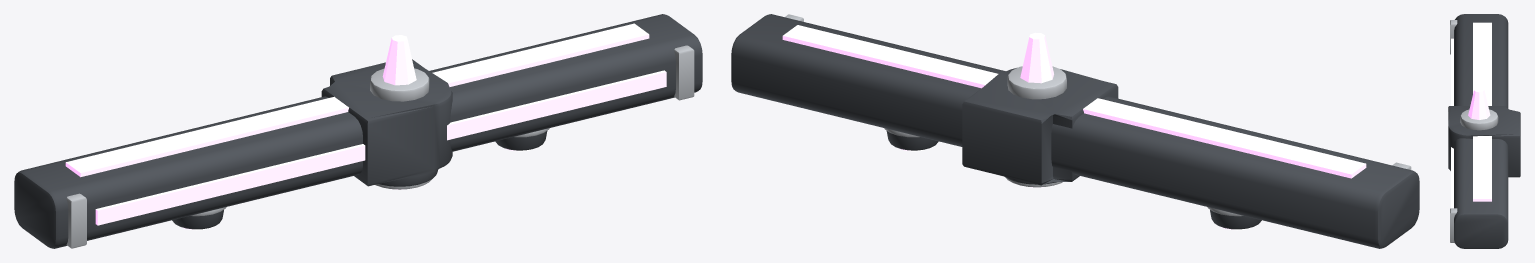
Rendered from SM_SynthRing.fbx.
3 renders of one model, left to right at view 1: azimuth 30°, elevation 25°; view 2: azimuth 150°, elevation 25°; view 3: azimuth 270°, elevation 25°, orthographic. The views are drawn at different scales.
Parts seen in each view (by area): view 1: SynthRing_Straight, SynthRing_Corner; view 2: SynthRing_Straight, SynthRing_Corner; view 3: SynthRing_Straight, SynthRing_Corner.
Boxes of the visible parts, x1,y1,x2,y2 form: SynthRing_Straight: (14,14,702,248); SynthRing_Corner: (321,35,452,189); SynthRing_Straight: (731,14,1419,248); SynthRing_Corner: (962,32,1118,187); SynthRing_Straight: (1450,14,1508,248); SynthRing_Corner: (1448,88,1520,177).
Size of the model in its own units: 1 by 0.207 by 0.153.
